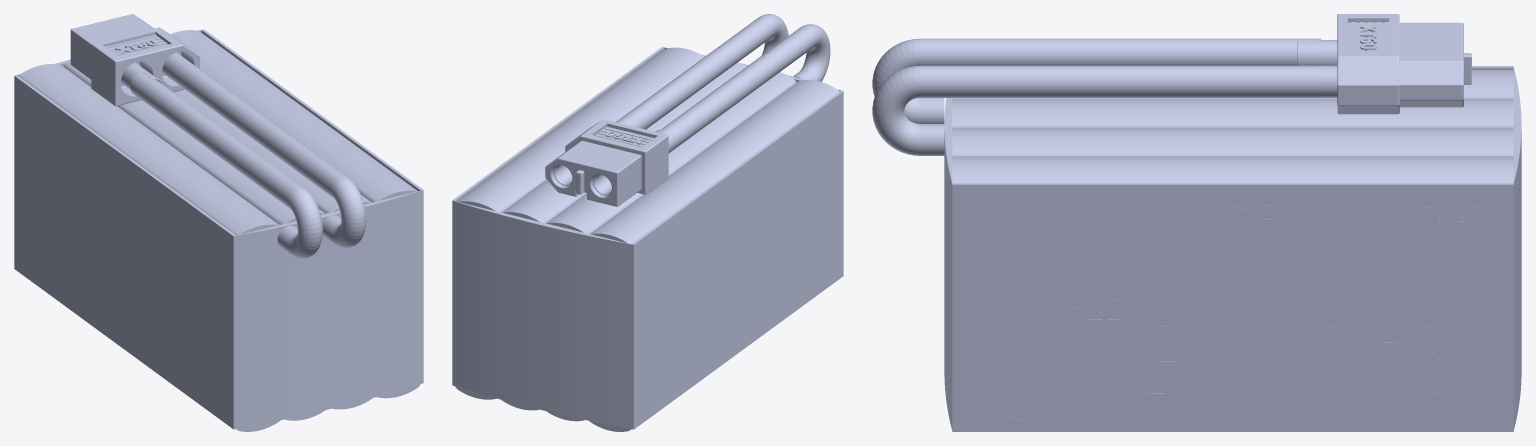
The model's file is battery-4s-1550mah-95c.glb.
3 renders of one model, left to right at view 1: azimuth 30°, elevation 25°; view 2: azimuth 150°, elevation 25°; view 3: azimuth 270°, elevation 25°, orthographic. The views are drawn at different scales.
Parts seen in each view (by area): view 1: world; view 2: world; view 3: world.
Boxes of the visible parts, x1,y1,x2,y2 form: world: (14,14,423,431); world: (452,14,843,431); world: (872,14,1521,431).
Bounding box in the file's own units: 0.035 × 0.0453 × 0.081.
